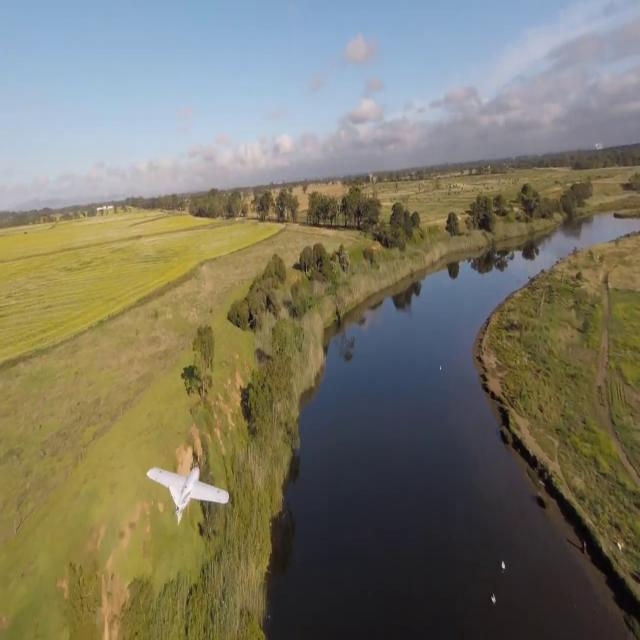iha: (179, 463, 199, 509)
